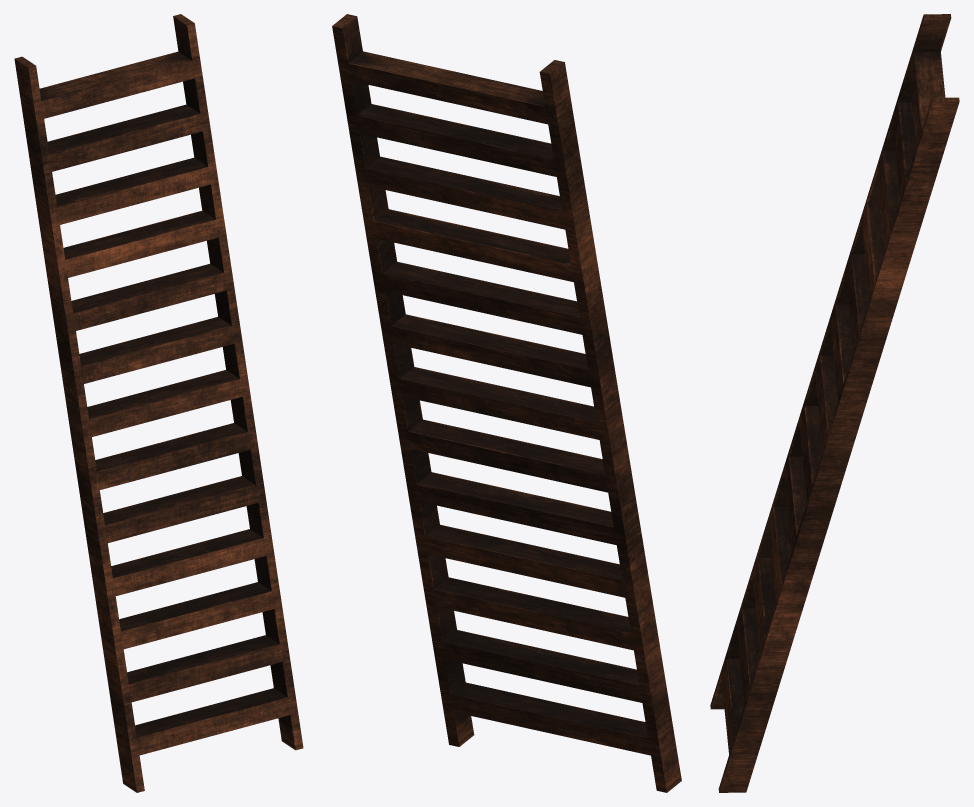
Rendered from LADDER_TEXTURED.fbx.
3 views of the same model, side by side, from view 1: azimuth 30°, elevation 25°; view 2: azimuth 150°, elevation 25°; view 3: azimuth 270°, elevation 25° (orthographic). The views are drawn at different scales.
Visible parts, largest first — view 1: pCube14; view 2: pCube14; view 3: pCube14.
Boxes of the visible parts, x1,y1,x2,y2 form: pCube14: [14, 14, 303, 792]; pCube14: [332, 14, 681, 792]; pCube14: [710, 14, 959, 792].
Size of the model in its own units: 22.35 by 77.87 by 25.61.
